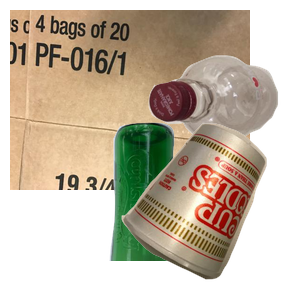cardboard: (10, 10, 250, 190)
glass: (107, 120, 278, 300)
plastic: (146, 53, 300, 187)
trash: (119, 121, 300, 300)
